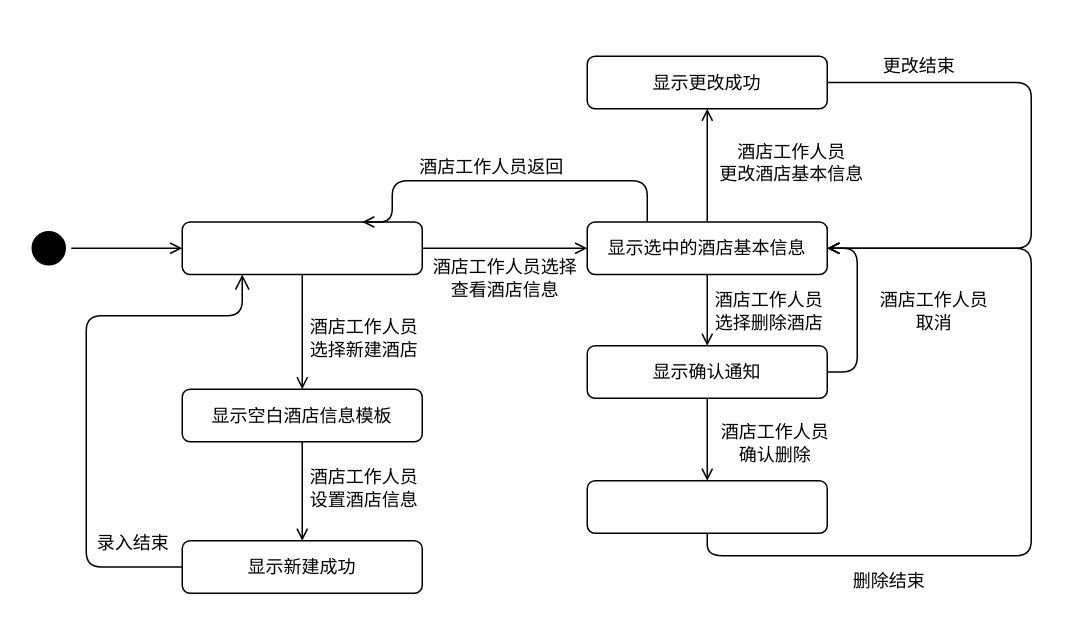
This 1070x620 diagram has some shape labels left out. The shapes that lost their labels are listed below. From the top down, each one's box as (x1, y1, x2, y2) in pixels, then its label:
(181, 220, 422, 274): 显示可维护的酒店列表
(586, 479, 827, 533): 显示删除成功
